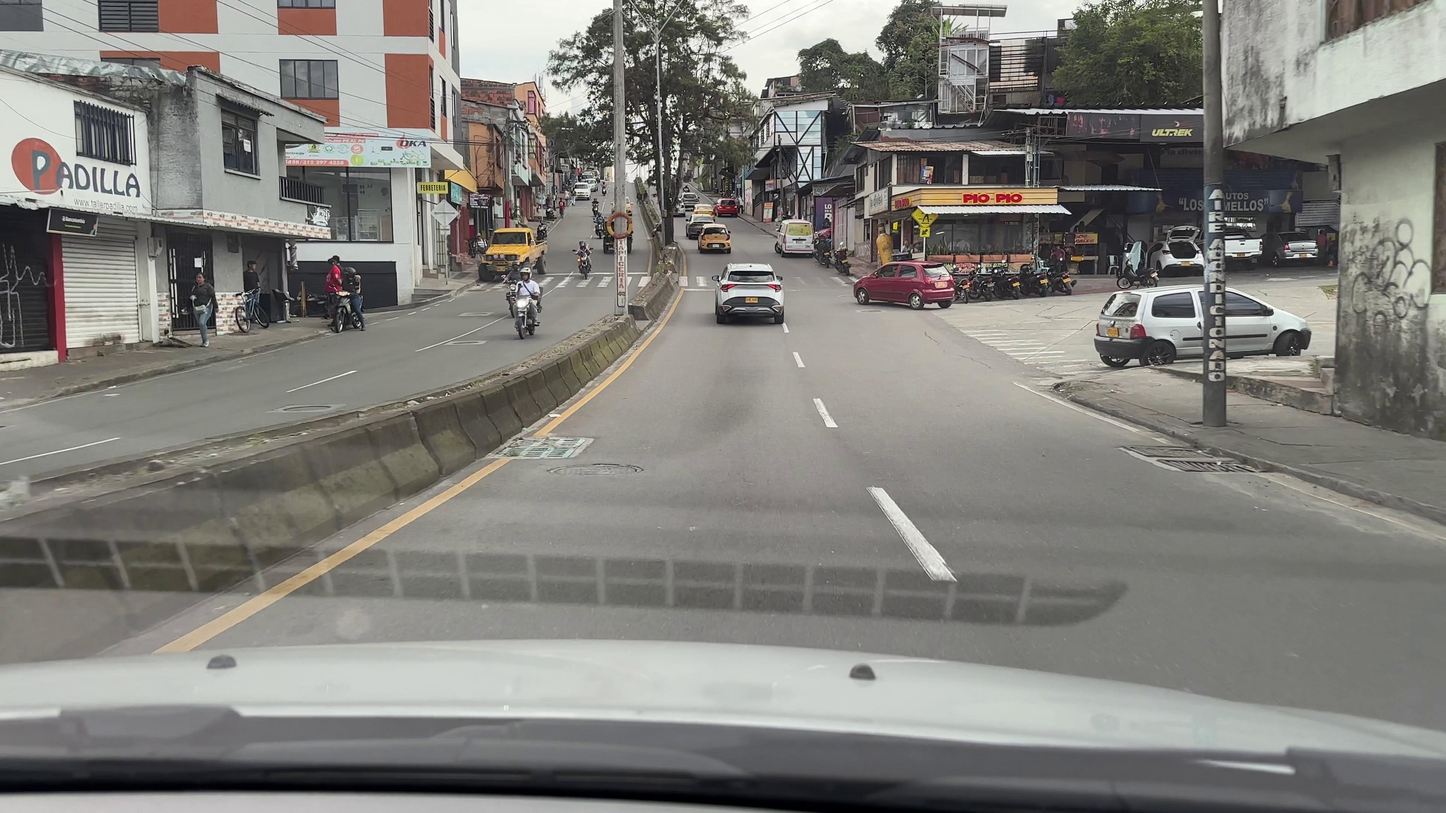registro: (549, 463, 643, 476)
rejilla: (1124, 446, 1263, 473), (496, 438, 587, 458)
